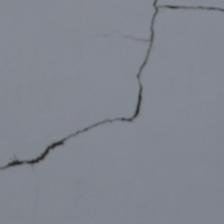Crack: (0, 77, 171, 218), (0, 0, 132, 28), (10, 48, 130, 66)
